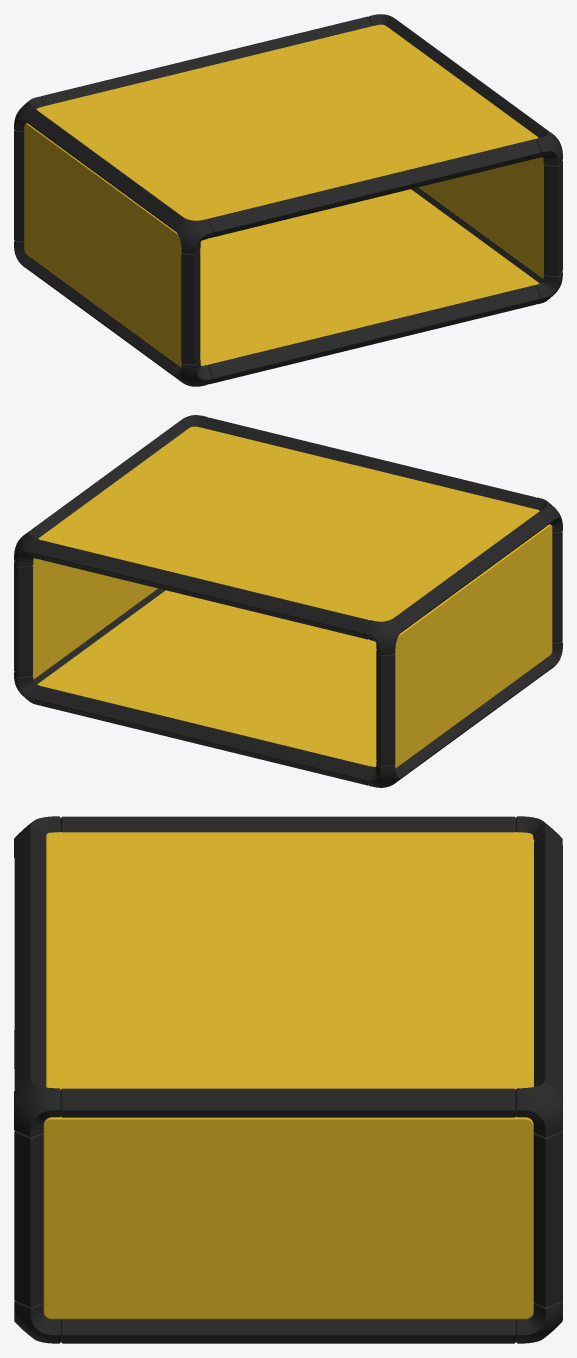
3 renders of one model, top to bottom at view 1: azimuth 30°, elevation 25°; view 2: azimuth 150°, elevation 25°; view 3: azimuth 270°, elevation 25°, orthographic. The views are drawn at different scales.
Visible parts, largest first — view 1: 479x374x154; view 2: 479x374x154; view 3: 479x374x154.
Boxes of the visible parts, x1=… form: 479x374x154: x1=14, y1=14, x2=562, y2=386; 479x374x154: x1=14, y1=415, x2=562, y2=787; 479x374x154: x1=14, y1=816, x2=562, y2=1343.
Bounding box in the file's own units: 0.5567 × 0.2316 × 0.4513.
